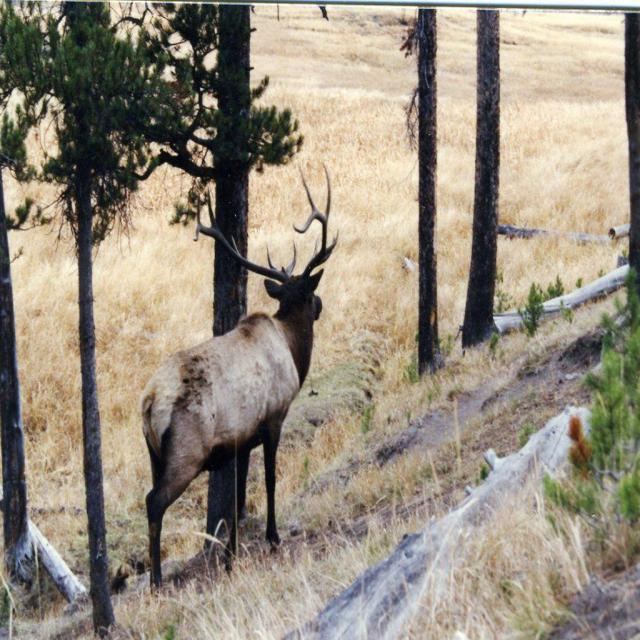Deer: (139, 162, 339, 592)
